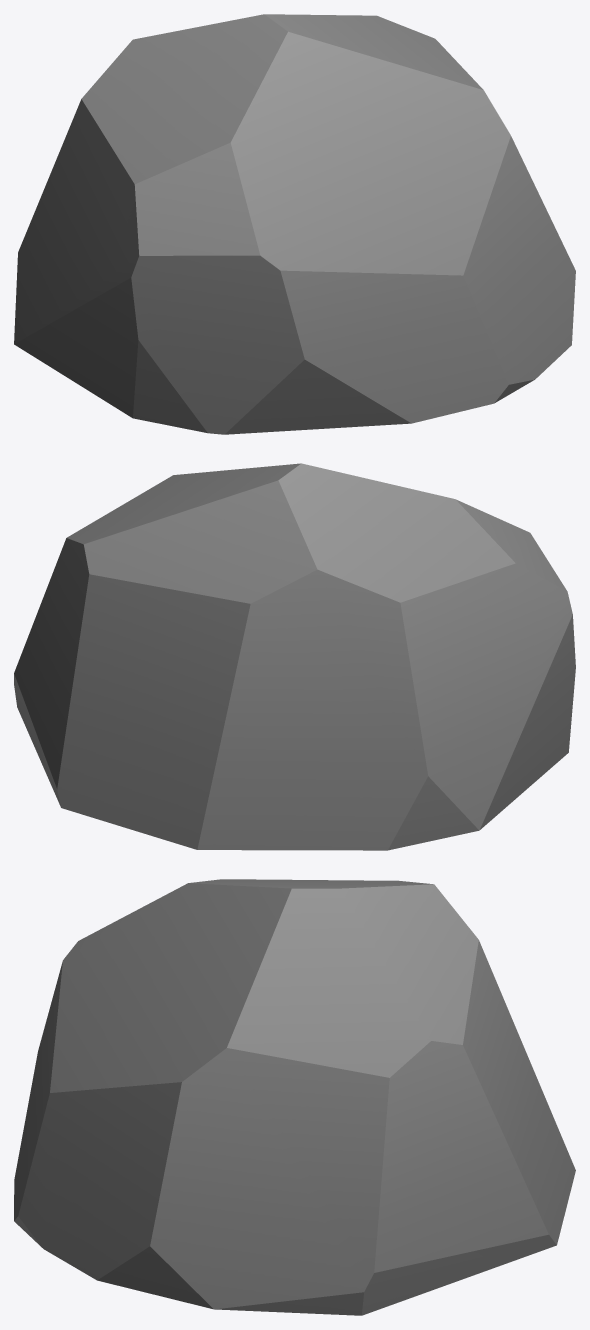
File: stone small 3.fbx
3 views of the same model, one above another, from view 1: azimuth 30°, elevation 25°; view 2: azimuth 150°, elevation 25°; view 3: azimuth 270°, elevation 25° (orthographic). The views are drawn at different scales.
Visible parts, largest first — view 1: stone small 3; view 2: stone small 3; view 3: stone small 3.
Part boxes in pixels (x1,y1,x2,y2): stone small 3: [14, 14, 575, 434]; stone small 3: [14, 463, 575, 850]; stone small 3: [14, 879, 575, 1315].
Bounding box in the file's own units: 134 × 75.75 × 130.
